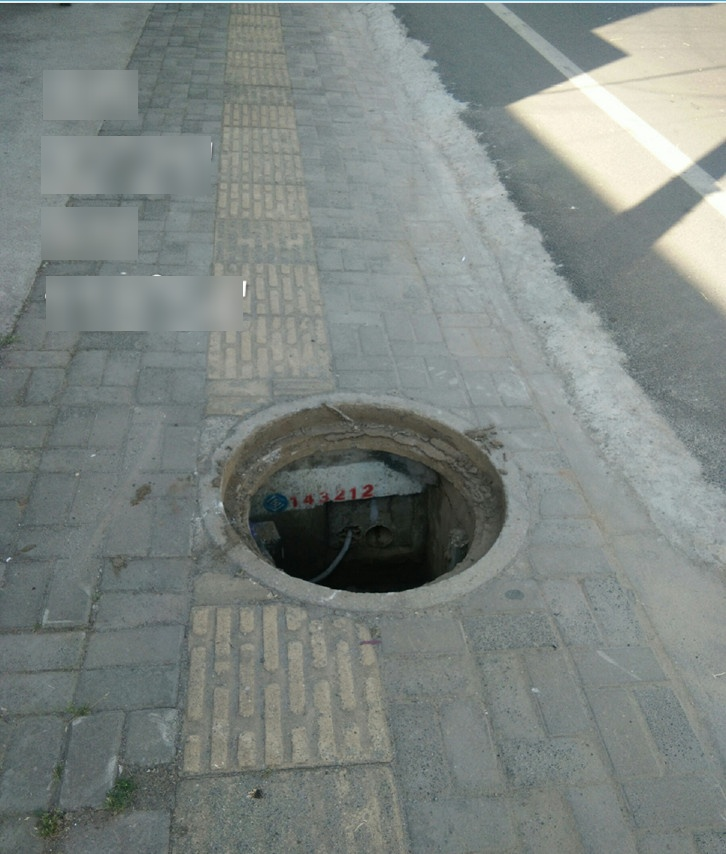lose: (198, 392, 531, 616)
